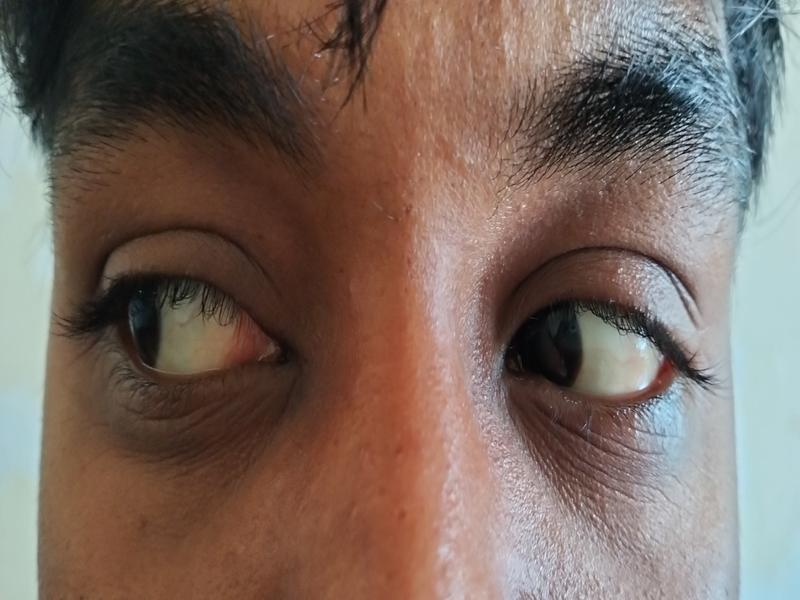EYE RIGHT: (518, 307, 686, 402), (98, 286, 269, 374)
